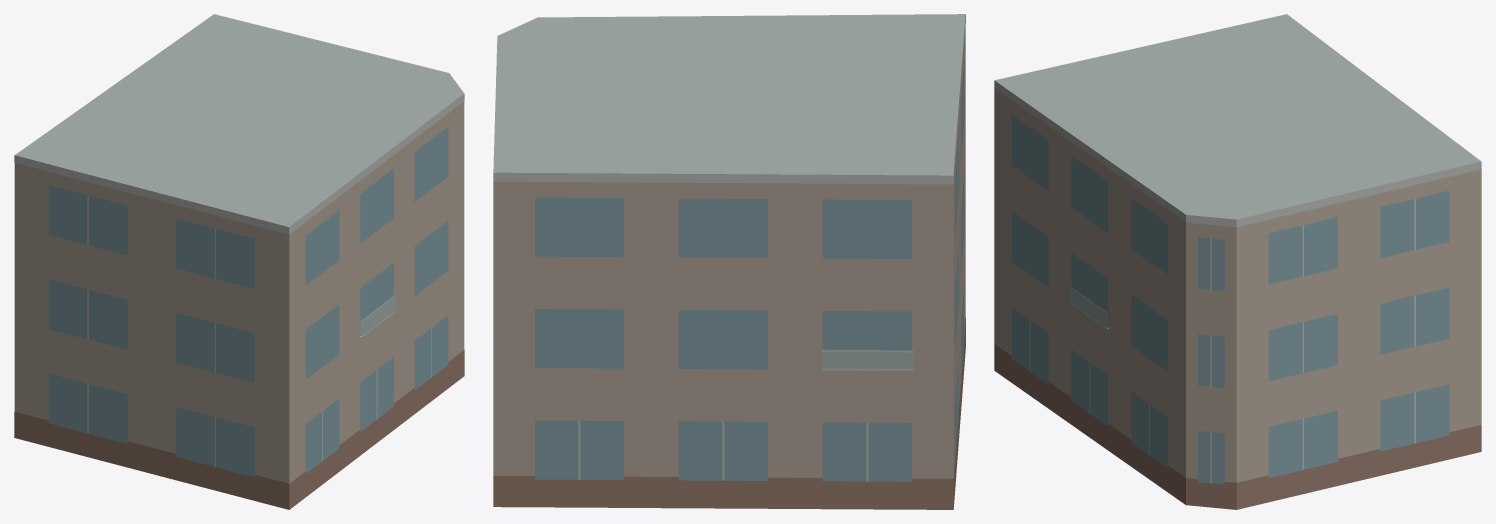
The model's file is survey-upis-32721927.glb.
3 renders of one model, left to right at view 1: azimuth 30°, elevation 25°; view 2: azimuth 150°, elevation 25°; view 3: azimuth 270°, elevation 25°, orthographic. The views are drawn at different scales.
Visible parts, largest first — view 1: survey-upis-32721927.tmp; view 2: survey-upis-32721927.tmp; view 3: survey-upis-32721927.tmp.
Boxes of the visible parts, x1,y1,x2,y2 form: survey-upis-32721927.tmp: (14,14,464,509); survey-upis-32721927.tmp: (493,14,965,509); survey-upis-32721927.tmp: (994,14,1481,509).
Bounding box in the file's own units: 13.91 × 9.15 × 13.93.
